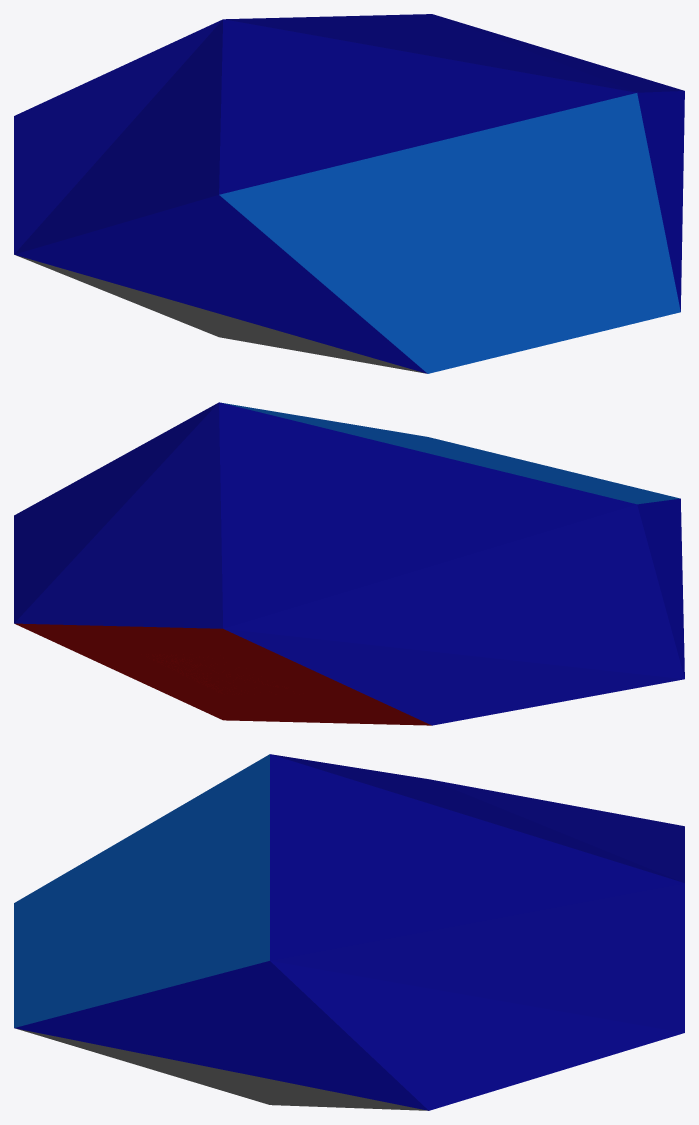
Rendered from asp_mk2.obj.
The picture shows the model from 3 angles, top to bottom: view 1: azimuth 30°, elevation 25°; view 2: azimuth 150°, elevation 25°; view 3: azimuth 270°, elevation 25°; orthographic projection.
Parts seen in each view (by area): view 1: asp_mk2; view 2: asp_mk2; view 3: asp_mk2.
Part boxes in pixels (left/top/right/bottom): asp_mk2: left=14, top=14, right=684, bottom=373; asp_mk2: left=14, top=402, right=684, bottom=725; asp_mk2: left=14, top=754, right=684, bottom=1110.
Size of the model in its own units: 138 by 32 by 118.
